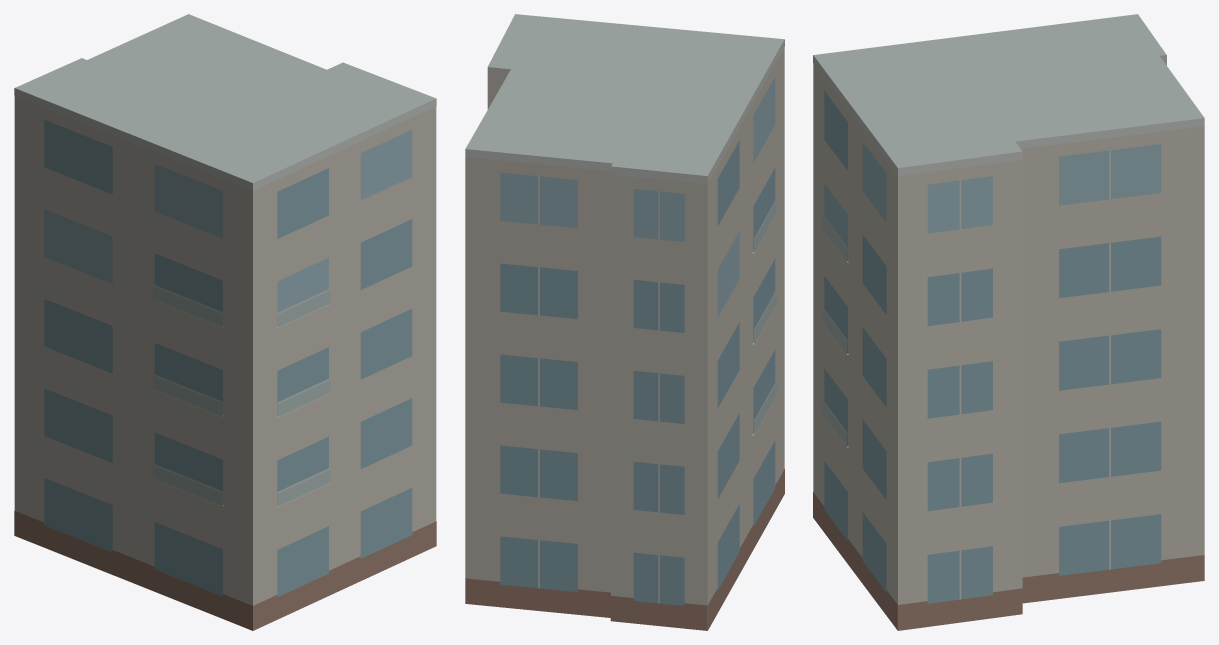
File: survey-upis-32625973.glb
The picture shows the model from 3 angles, left to right: view 1: azimuth 30°, elevation 25°; view 2: azimuth 150°, elevation 25°; view 3: azimuth 270°, elevation 25°; orthographic projection. The views are drawn at different scales.
Visible parts, largest first — view 1: survey-upis-32625973.tmp; view 2: survey-upis-32625973.tmp; view 3: survey-upis-32625973.tmp.
Part boxes in pixels (bbox=[...]): survey-upis-32625973.tmp: bbox=[14, 14, 436, 630]; survey-upis-32625973.tmp: bbox=[465, 14, 784, 630]; survey-upis-32625973.tmp: bbox=[813, 14, 1204, 630].
Bounding box in the file's own units: 9.98 × 13.95 × 10.71.
